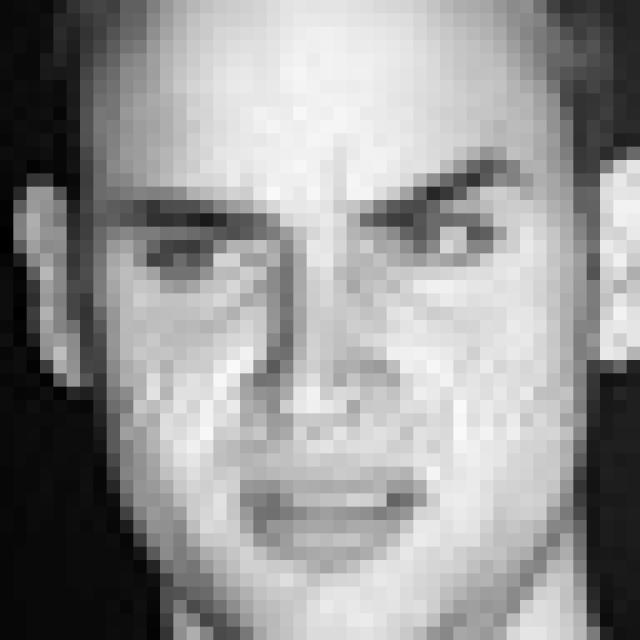disgust: (103, 149, 539, 574)
